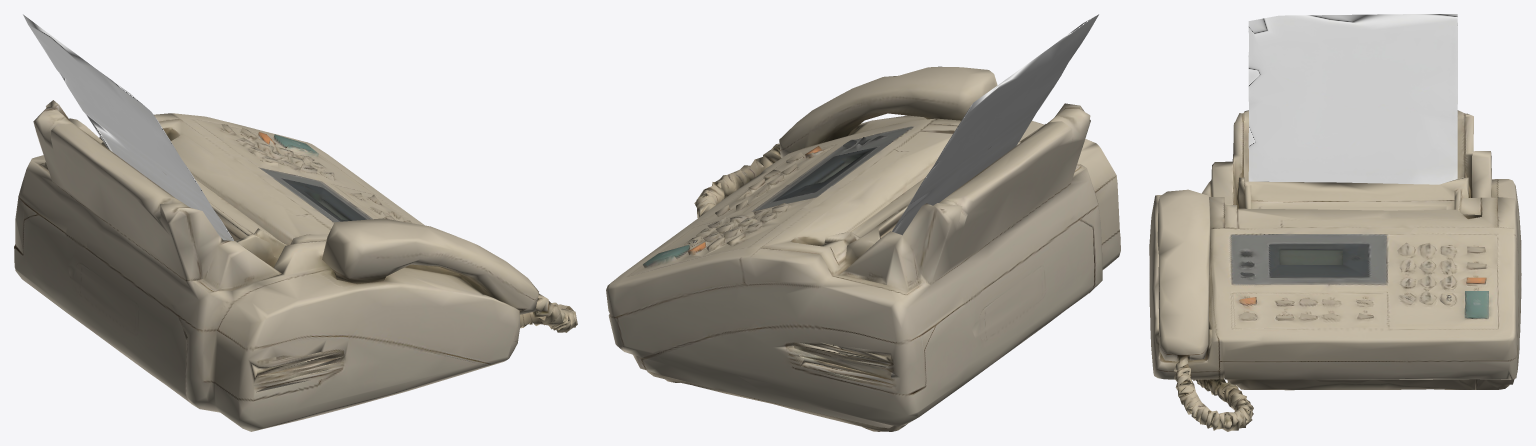
File: fax.glb
3 renders of one model, left to right at view 1: azimuth 30°, elevation 25°; view 2: azimuth 150°, elevation 25°; view 3: azimuth 270°, elevation 25°, orthographic. The views are drawn at different scales.
Visible parts, largest first — view 1: tripo_node_6826ac98-b6ff-41d6-a843-c421717da543; view 2: tripo_node_6826ac98-b6ff-41d6-a843-c421717da543; view 3: tripo_node_6826ac98-b6ff-41d6-a843-c421717da543.
Boxes of the visible parts, box(x1,y1,x2,y2) form: tripo_node_6826ac98-b6ff-41d6-a843-c421717da543: box(14, 14, 577, 431); tripo_node_6826ac98-b6ff-41d6-a843-c421717da543: box(606, 14, 1120, 431); tripo_node_6826ac98-b6ff-41d6-a843-c421717da543: box(1149, 14, 1521, 431).
Size of the model in its own units: 0.4074 by 0.3 by 0.3859.
Materials: 1 (1 with a texture image).
